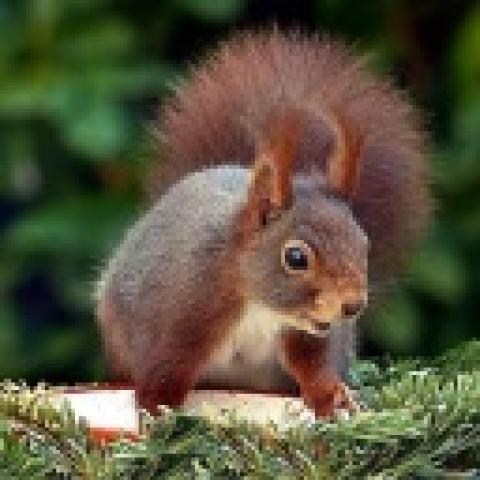small_animal: (90, 22, 435, 420)
